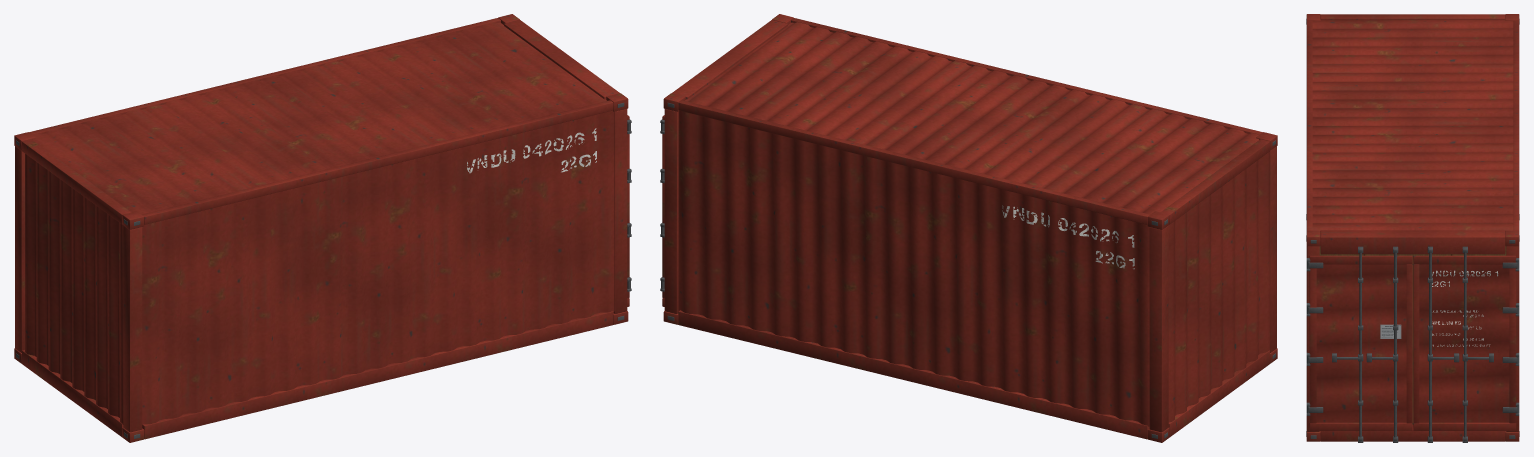
Rendered from parking-shipping-container.glb.
3 views of the same model, side by side, from view 1: azimuth 30°, elevation 25°; view 2: azimuth 150°, elevation 25°; view 3: azimuth 270°, elevation 25° (orthographic). The views are drawn at different scales.
Visible parts, largest first — view 1: Container; view 2: Container; view 3: Container, Door_Right, Door_Left.
Boxes of the visible parts, x1=… form: Container: x1=14, y1=14, x2=631, y2=442; Container: x1=660, y1=14, x2=1277, y2=442; Container: x1=1306, y1=14, x2=1519, y2=442; Door_Right: x1=1413, y1=248, x2=1519, y2=441; Door_Left: x1=1306, y1=248, x2=1412, y2=441.
Size of the model in its own units: 6.16 by 2.59 by 2.44.
Materials: 7 (6 with a texture image).
